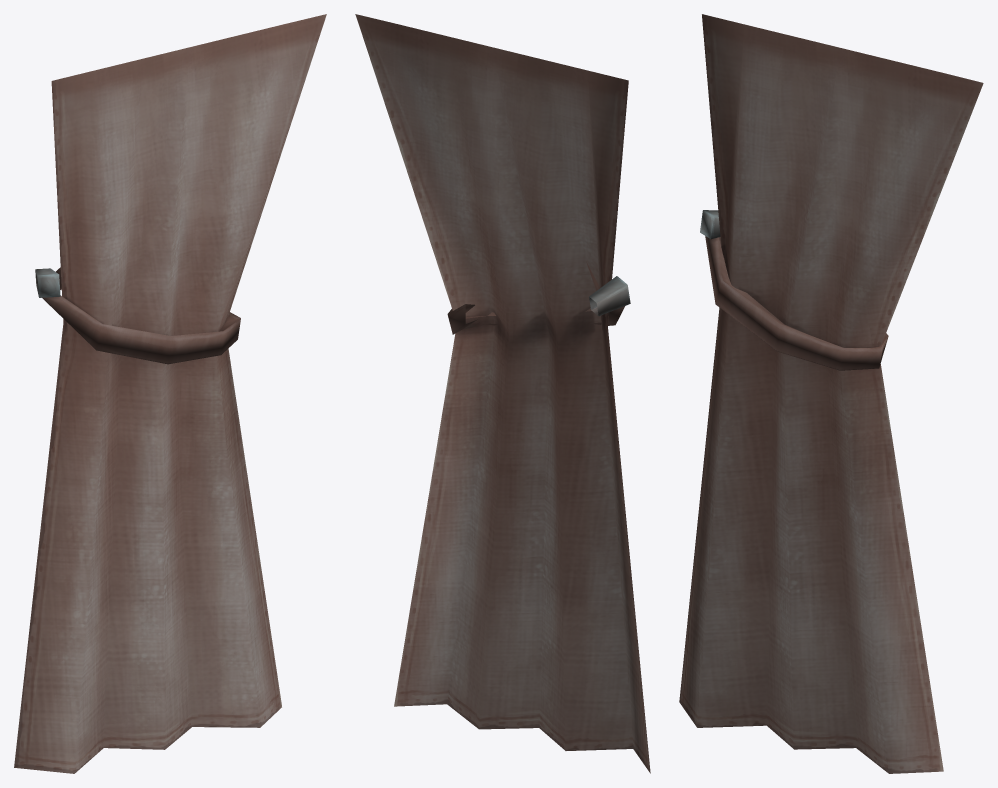
The model's file is curtain_6.FBX.
3 views of the same model, side by side, from view 1: azimuth 30°, elevation 25°; view 2: azimuth 150°, elevation 25°; view 3: azimuth 330°, elevation 25° (orthographic). The views are drawn at different scales.
Parts seen in each view (by area): view 1: curtain_6; view 2: curtain_6; view 3: curtain_6.
Part boxes in pixels (x1=…): curtain_6: x1=14, y1=14, x2=326, y2=773; curtain_6: x1=355, y1=14, x2=650, y2=773; curtain_6: x1=679, y1=14, x2=983, y2=773.
Bounding box in the file's own units: 78.03 × 167 × 20.41.
1 material, 1 textured.
